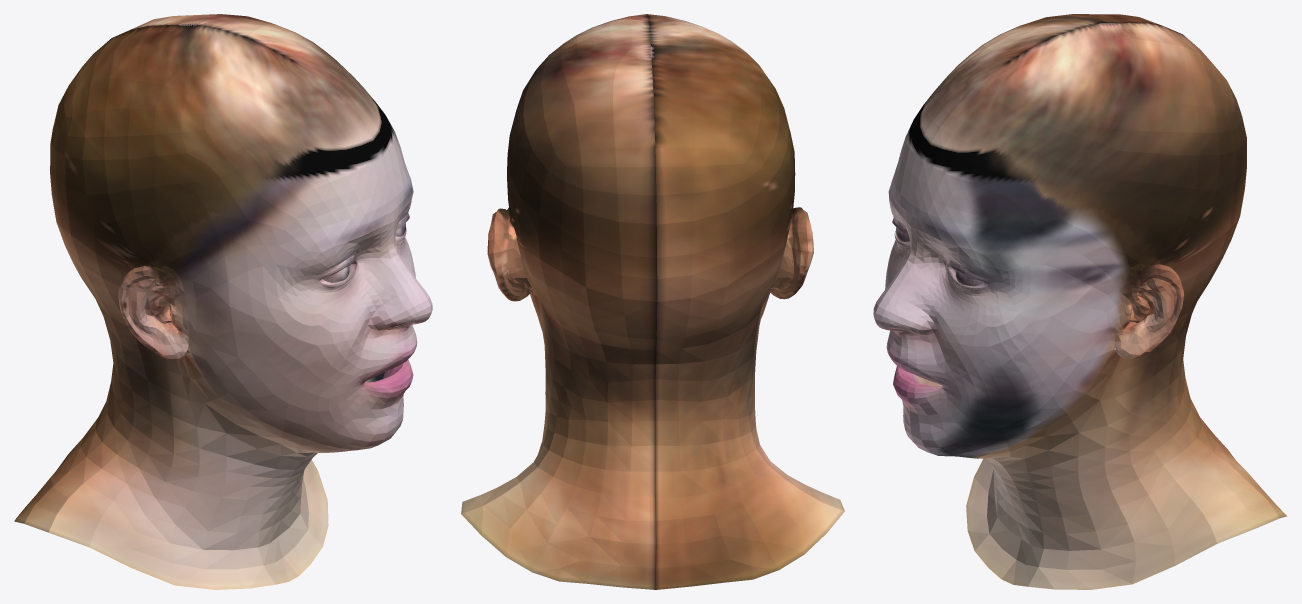
Rendered from cheo1_frame0003.obj.
3 views of the same model, side by side, from view 1: azimuth 30°, elevation 25°; view 2: azimuth 150°, elevation 25°; view 3: azimuth 270°, elevation 25° (orthographic). The views are drawn at different scales.
Bounding box in the file's own units: 0.213 × 0.3204 × 0.2264.
Materials: 1 (1 with a texture image).
